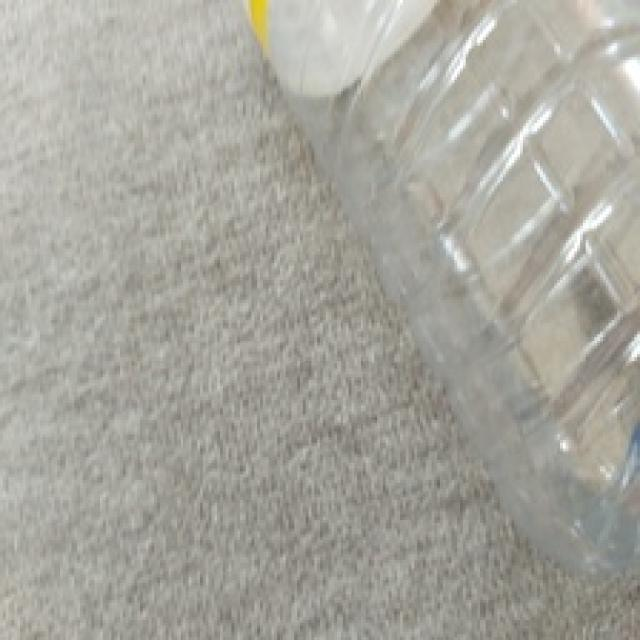Plastic: (245, 0, 640, 569)
